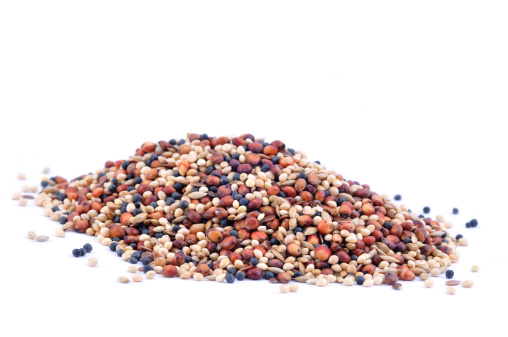seed: (36, 132, 464, 294)
